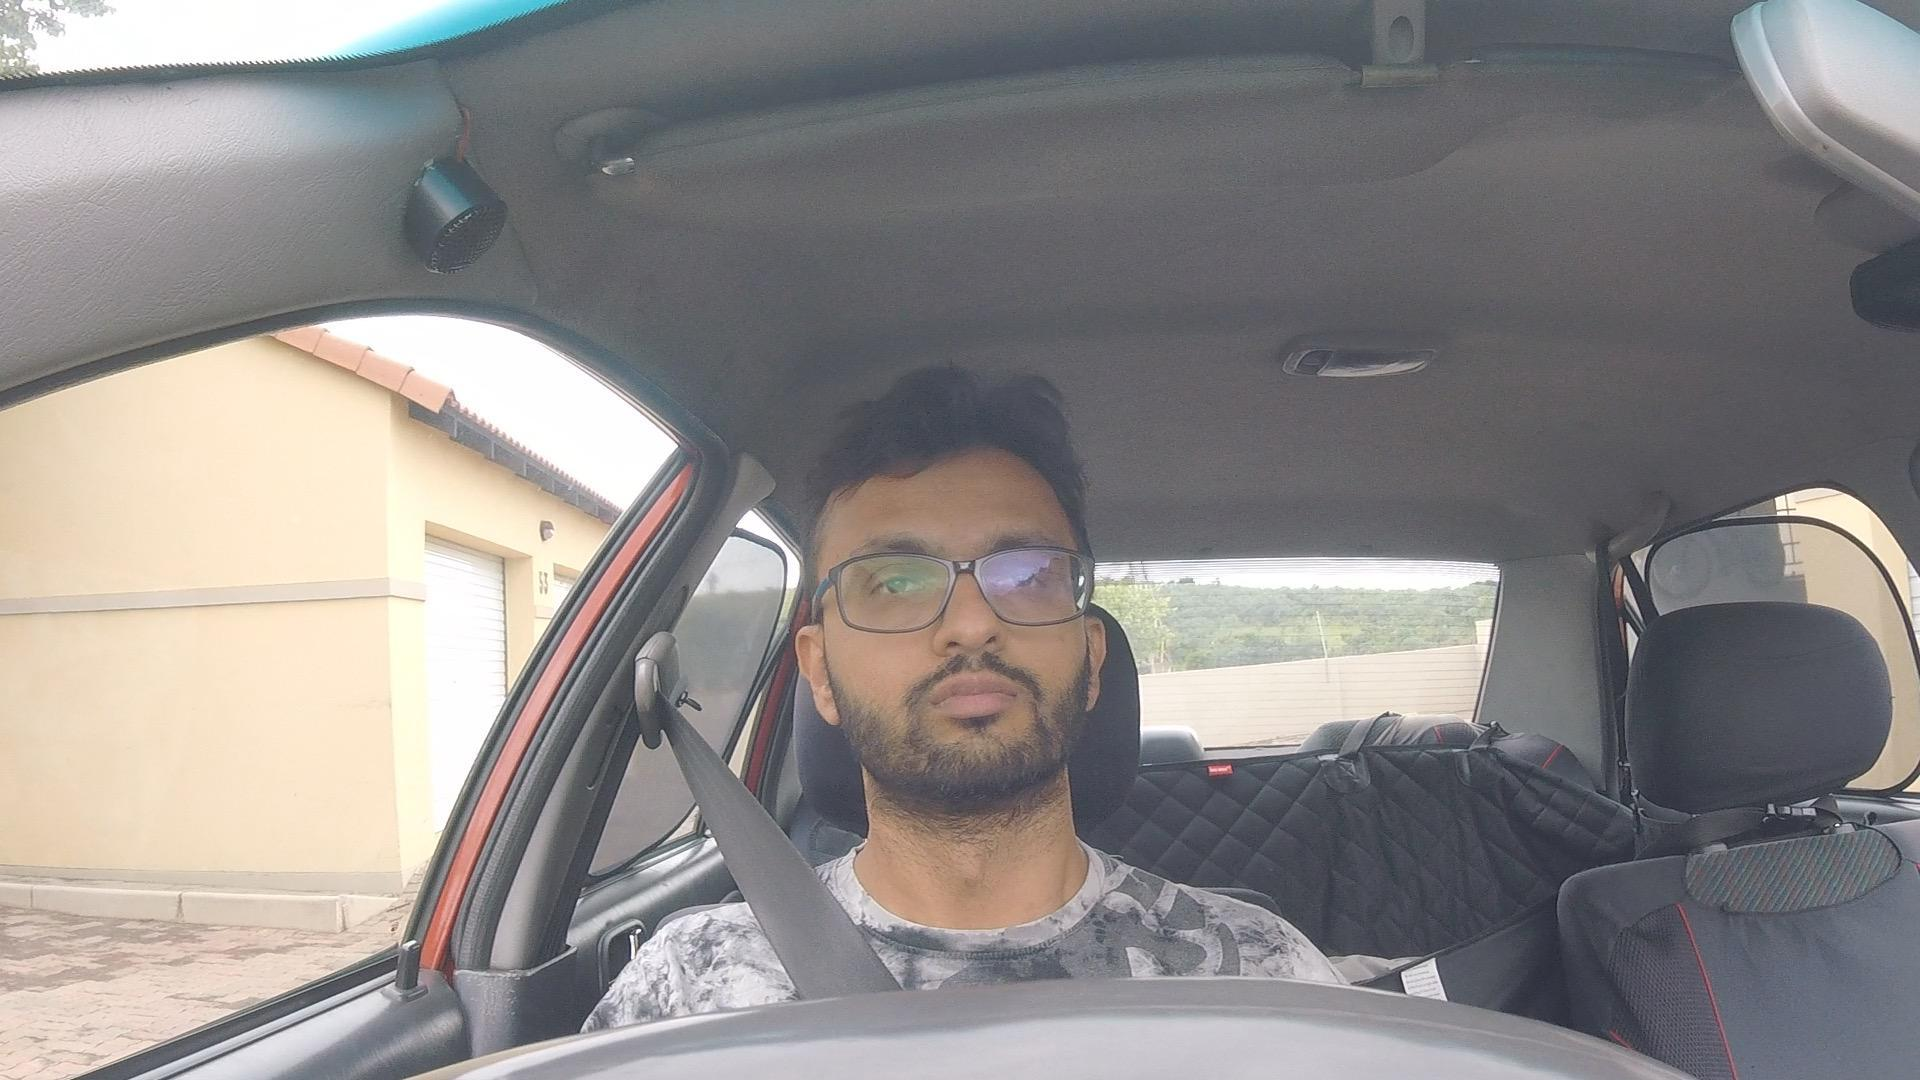SafeDriving: (791, 367, 1108, 807)
